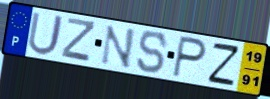N: (99, 24, 138, 71)
P: (170, 34, 209, 80)
S: (136, 30, 169, 75)
U: (26, 10, 66, 57)
Z: (60, 17, 97, 65), (206, 42, 241, 88)
